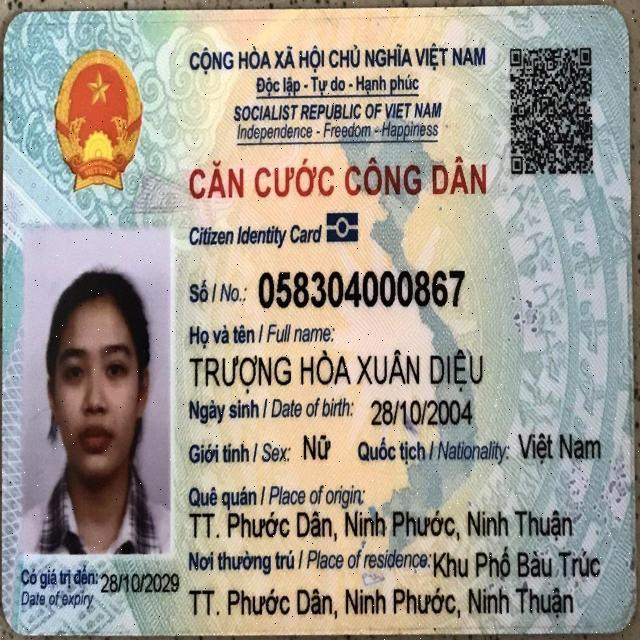current_place: (185, 581, 578, 625), (431, 545, 605, 583)
dob: (368, 394, 477, 432)
expire_date: (98, 568, 182, 599)
gender: (300, 429, 334, 466)
id: (255, 265, 468, 314)
name: (186, 346, 488, 398)
nationality: (514, 429, 604, 469)
origin_place: (186, 509, 575, 547)
